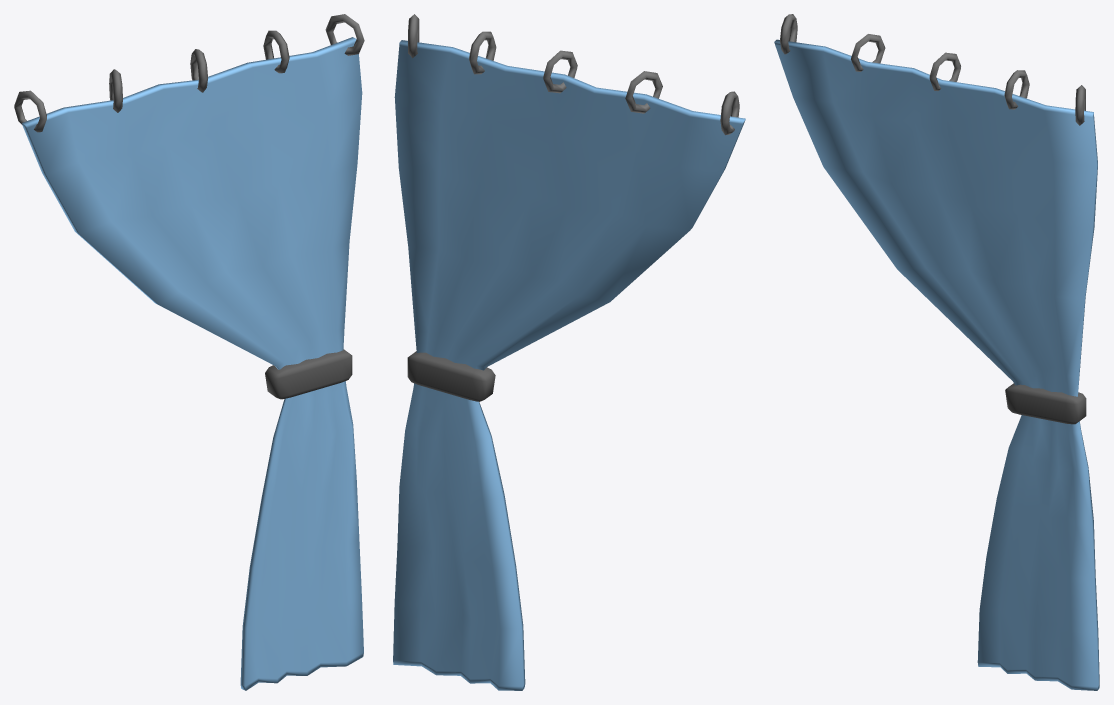
The model's file is curtain_008.fbx.
The picture shows the model from 3 angles, left to right: view 1: azimuth 30°, elevation 25°; view 2: azimuth 150°, elevation 25°; view 3: azimuth 330°, elevation 25°; orthographic projection. The views are drawn at different scales.
Parts seen in each view (by area): view 1: curtain_008; view 2: curtain_008; view 3: curtain_008.
Part boxes in pixels (x1=…): curtain_008: x1=14, y1=14, x2=364, y2=690; curtain_008: x1=393, y1=14, x2=745, y2=690; curtain_008: x1=774, y1=14, x2=1099, y2=690.
Size of the model in its own units: 194 by 22.83 by 348.
